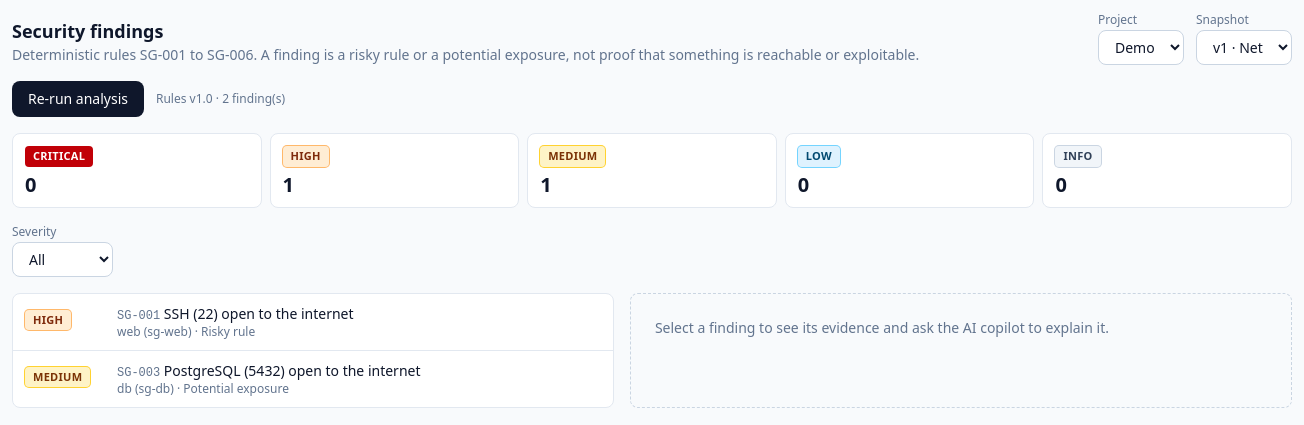
FindingsPage › filters by severity
expect the list named "Findings" is shown: met, box [12,292,614,408]
Select "medium" in the dropdown labelled "Severity": coordinates (62, 259) [12,242,113,276]
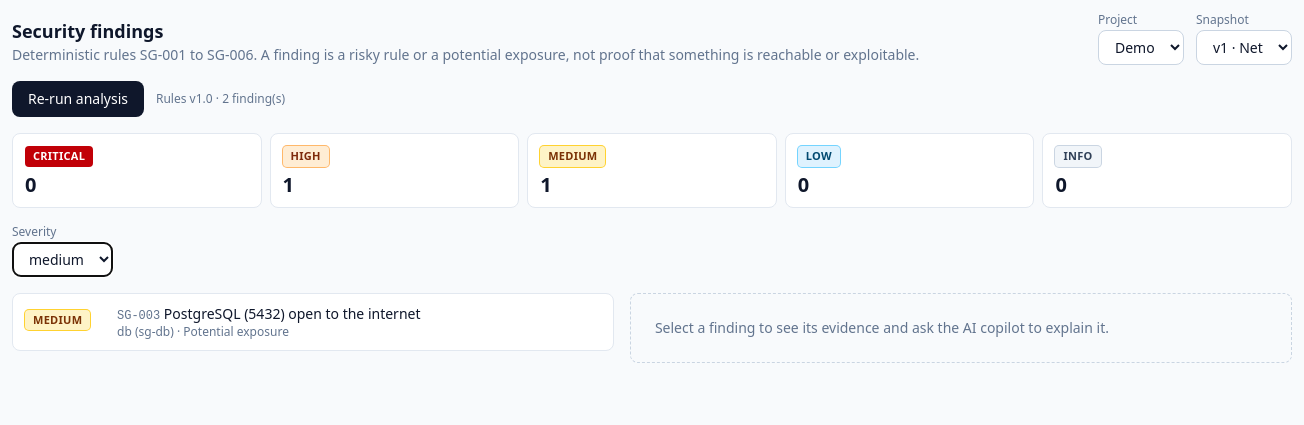
expect the list item shows "SG-003": met, box [13,294,613,350]
expect the number of list items is 1: met, box [13,294,613,350]
Select "critical" in the dropdown labelled "Severity": coordinates (62, 259) [12,242,113,276]
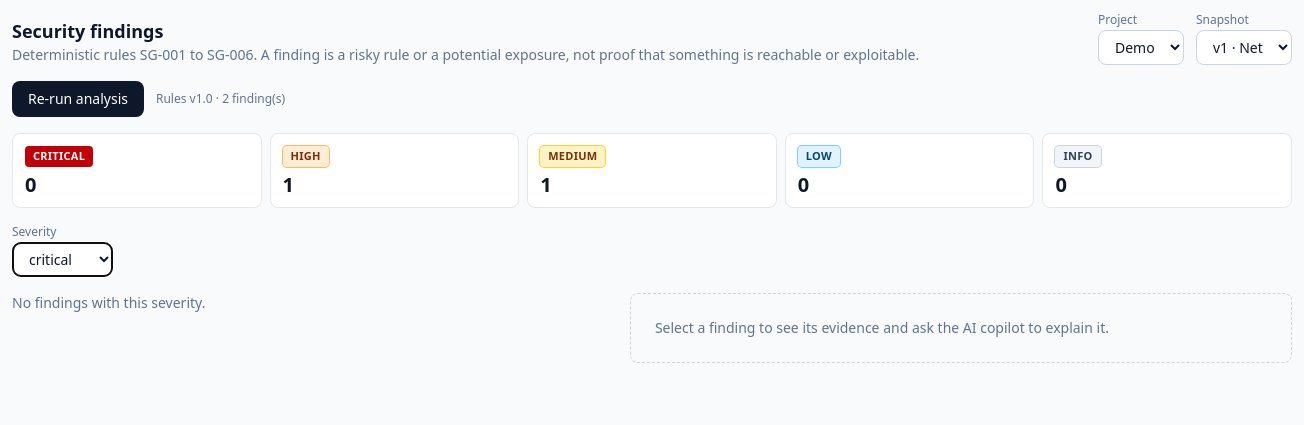
expect the text "No findings with this severity." is shown: met, box [12,292,205,312]
